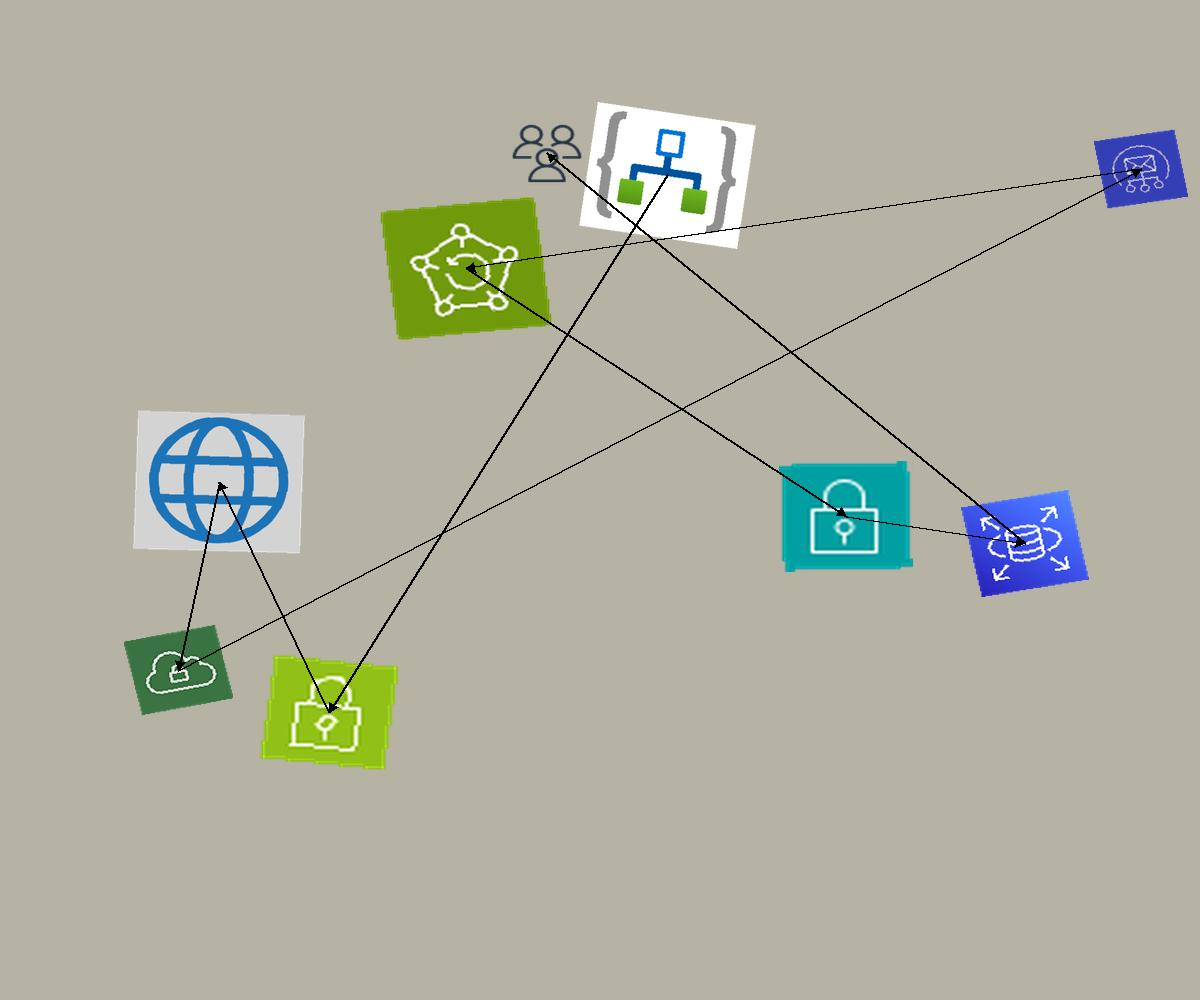AWS-Backup: (379, 196, 553, 341)
AWS-Private-subnet: (779, 461, 913, 572)
AWS-Private_vpc: (123, 624, 234, 716)
AWS-Public-subnet: (258, 653, 401, 772)
AWS-RDS: (961, 490, 1089, 597)
AWS-Res_Users: (508, 121, 586, 186)
AWS-Simple-Email-Service: (1093, 129, 1189, 209)
Azure_http: (133, 410, 305, 554)
Azure_integration-204-Logic-Apps: (579, 102, 756, 249)
